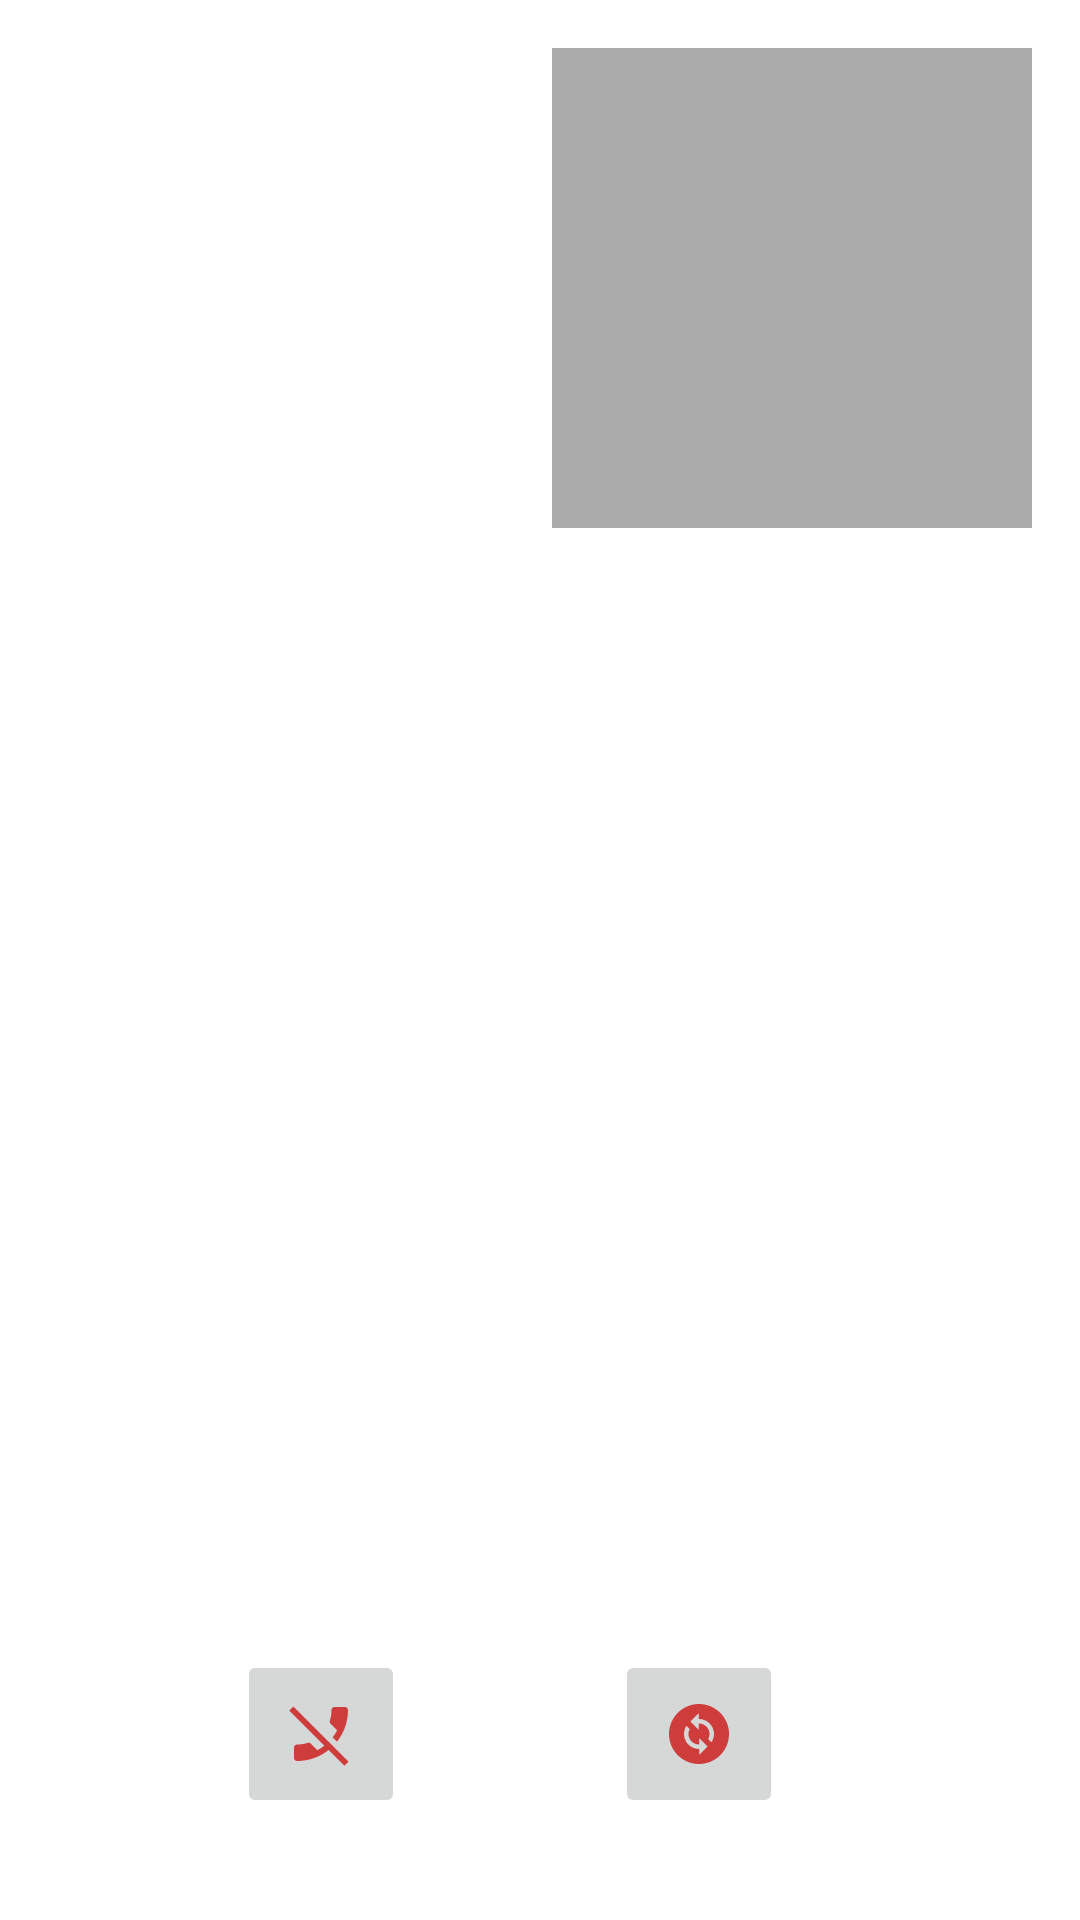

Screen size 1080px×1920px. Icon name, then its box in pixels as [left=x1, top=y1, right=x2, bottom=y2]:
切换前后置摄像头: [left=627, top=1668, right=771, bottom=1800]
挂断: [left=249, top=1668, right=393, bottom=1800]
